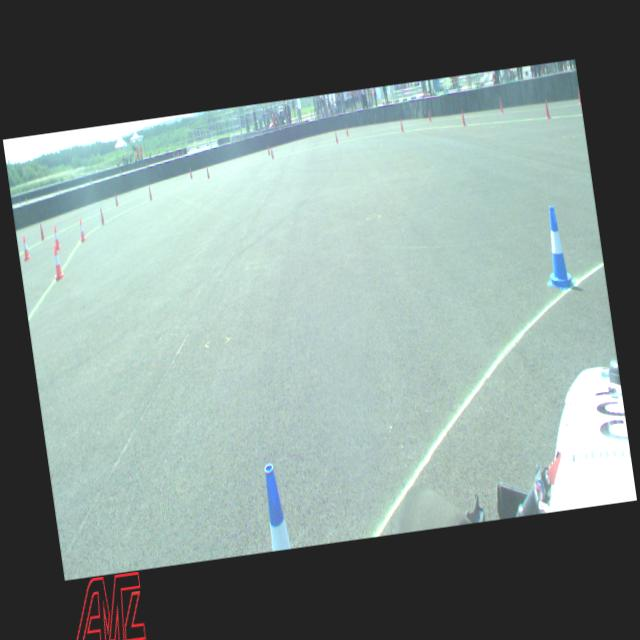blue_cone: (537, 204, 577, 292), (261, 462, 291, 552)
orange_cone: (51, 244, 65, 280), (20, 234, 32, 260), (52, 224, 62, 250), (77, 218, 86, 242)
